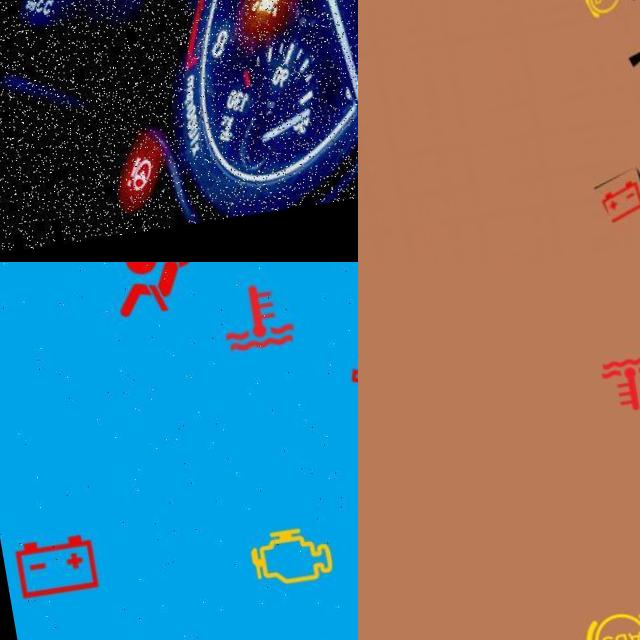Electronic Power Steering: (97, 150, 155, 212)
High Engine Coolant Temperature: (580, 353, 640, 439)
